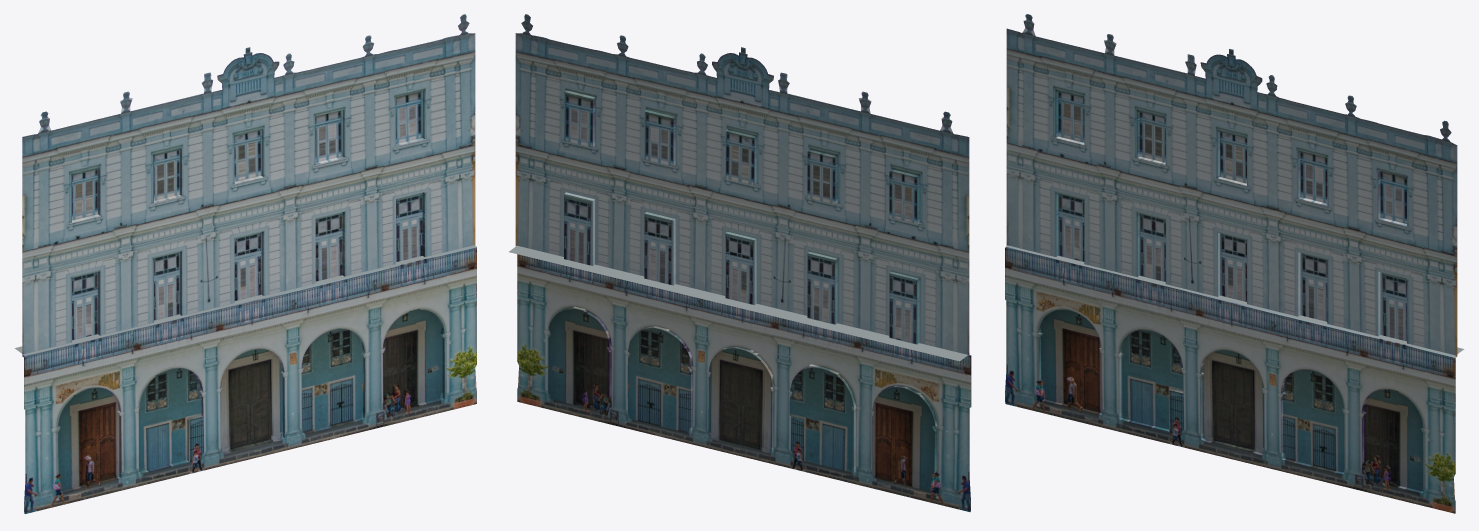
Rendered from Housefacade1.fbx.
3 renders of one model, left to right at view 1: azimuth 30°, elevation 25°; view 2: azimuth 150°, elevation 25°; view 3: azimuth 330°, elevation 25°, orthographic.
Visible parts, largest first — view 1: building1, Plane; view 2: building1, Plane; view 3: building1, Plane.
Part boxes in pixels (<box>): building1: <box>22,14,476,513</box>; Plane: <box>14,245,475,355</box>; building1: <box>515,14,971,511</box>; Plane: <box>509,245,969,361</box>; building1: <box>1005,14,1457,513</box>; Plane: <box>1006,245,1464,356</box>.
Size of the model in its own units: 2755 by 2374 by 112.
Materials: 2 (1 with a texture image).
